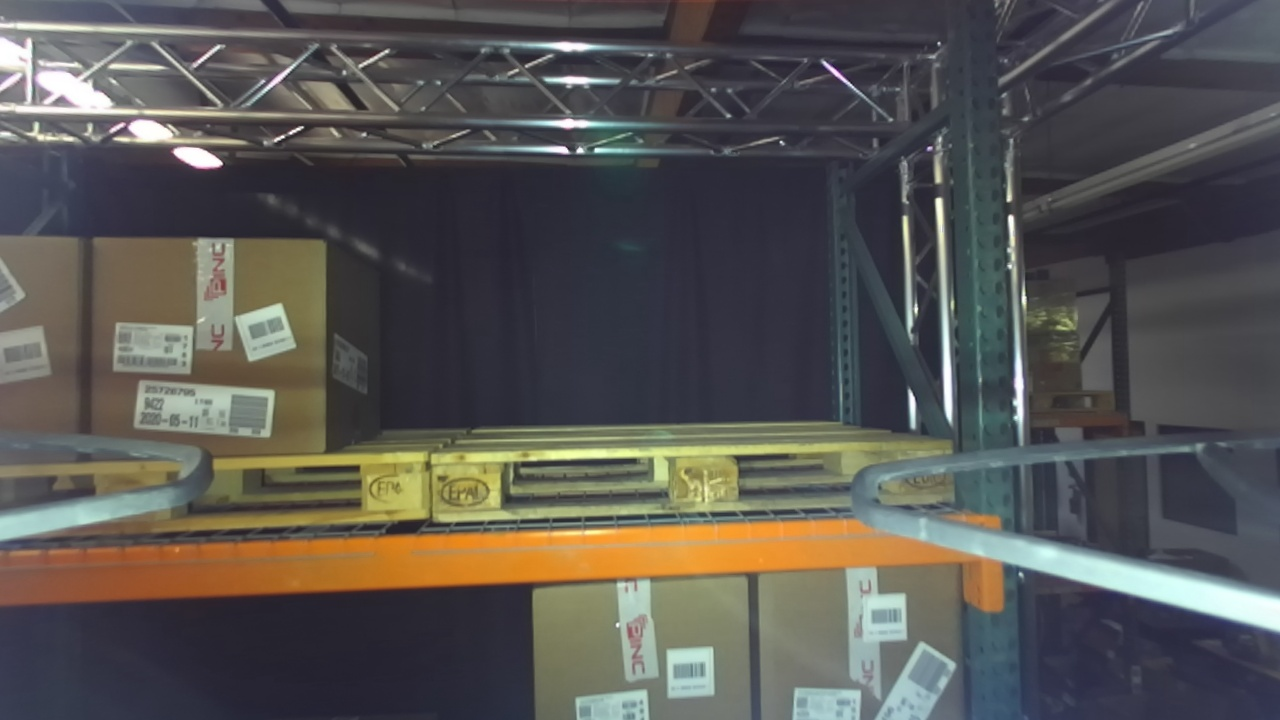box: (64, 202, 352, 478), (732, 546, 988, 720), (505, 559, 779, 720)
